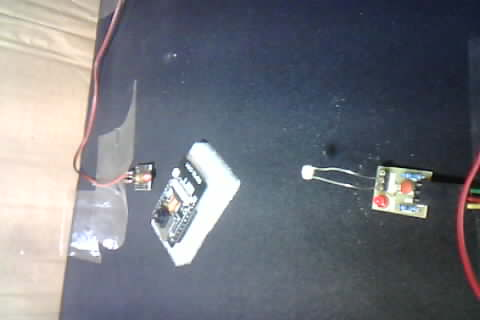esp32: (149, 140, 238, 267)
